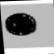correct: (2, 11, 38, 36)
